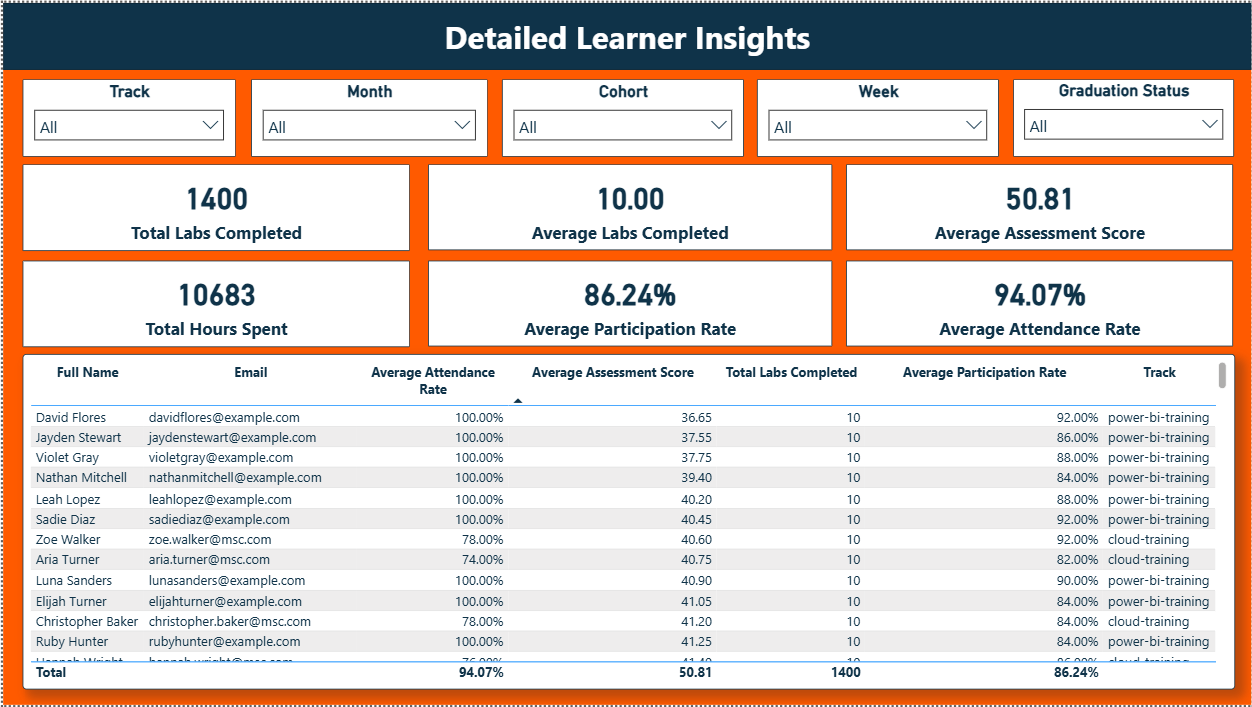

What the dashboard file says about the page in this screenshot:
{"tool":"powerbi","page":{"name":"Page 2","canvas":[1280,720],"ordinal":1},"visuals":[{"type":"tableEx","fields":{"Values":["Learner.full-name","Learner.email","Combine-Learner-Zoom-Attendance.Average Attendance Rate","Combine-Learner-Assessments.Average Assessment Score","Combine-Learner-Assessments.Total Labs Completed","Combine-Learner-Participation.Average Participation Rate","Learner.Track"]},"box":[22,369,1242,331],"z":0},{"type":"shape","box":[0,0,1280,69],"z":1000},{"type":"textbox","box":[0,8,1280,61],"z":2000},{"type":"slicer","title":"Track","fields":{"Values":["Learner.programme"]},"box":[20,86,218,79],"z":3000},{"type":"slicer","title":"Month","fields":{"Values":["Date.Month"]},"box":[254,86,242,79],"z":4000},{"type":"slicer","title":"Cohort","fields":{"Values":["Learner.Cohort"]},"box":[511,86,248,79],"z":5000},{"type":"slicer","title":"Week","fields":{"Values":["Combine-Learner-Zoom-Attendance.week"]},"box":[773,86,248,79],"z":6000},{"type":"card","fields":{"Values":["Combine-Learner-Assessments.Total Labs Completed"]},"box":[20,173,397,88],"z":7000},{"type":"card","fields":{"Values":["Combine-Learner-Assessments.Average Labs Completed"]},"box":[436,173,414,88],"z":8000},{"type":"card","fields":{"Values":["Combine-Learner-Assessments.Average Assessment Score"]},"box":[865,173,397,88],"z":9000},{"type":"card","fields":{"Values":["Combine-Learner-Zoom-Attendance.Total Hours Spent"]},"box":[20,272,397,88],"z":10000},{"type":"card","fields":{"Values":["Combine-Learner-Zoom-Attendance.Average Attendance Rate"]},"box":[865,272,397,88],"z":11000},{"type":"card","fields":{"Values":["Combine-Learner-Participation.Average Participation Rate"]},"box":[436,272,414,88],"z":12000},{"type":"slicer","title":"Graduation Status","fields":{"Values":["Combine-Learner-Status.graduation-status"]},"box":[1036,86,226,79],"z":13000},{"type":"shape","box":[0,69,1280,15],"z":14000},{"type":"shape","box":[0,705,1280,15],"z":15000},{"type":"shape","box":[1264,84,16,621],"z":16000},{"type":"shape","box":[0,84,16,621],"z":17000}]}

Visuals, with their boxes in screenshot pixels (x1, y1, x2, y2), scaled from the page's 1280x720 canvas onto the 1252x707 screenshot:
tableEx - Learner.full-name x Learner.email: bbox=(22, 362, 1236, 687)
shape: bbox=(0, 0, 1251, 68)
textbox: bbox=(0, 8, 1251, 68)
"Track" slicer: bbox=(20, 84, 233, 162)
"Month" slicer: bbox=(248, 84, 485, 162)
"Cohort" slicer: bbox=(500, 84, 742, 162)
"Week" slicer: bbox=(756, 84, 999, 162)
card - Combine-Learner-Assessments.Total Labs Completed: bbox=(20, 170, 408, 256)
card - Combine-Learner-Assessments.Average Labs Completed: bbox=(426, 170, 831, 256)
card - Combine-Learner-Assessments.Average Assessment Score: bbox=(846, 170, 1234, 256)
card - Combine-Learner-Zoom-Attendance.Total Hours Spent: bbox=(20, 267, 408, 354)
card - Combine-Learner-Zoom-Attendance.Average Attendance Rate: bbox=(846, 267, 1234, 354)
card - Combine-Learner-Participation.Average Participation Rate: bbox=(426, 267, 831, 354)
"Graduation Status" slicer: bbox=(1013, 84, 1234, 162)
shape: bbox=(0, 68, 1251, 82)
shape: bbox=(0, 692, 1251, 706)
shape: bbox=(1236, 82, 1251, 692)
shape: bbox=(0, 82, 16, 692)
